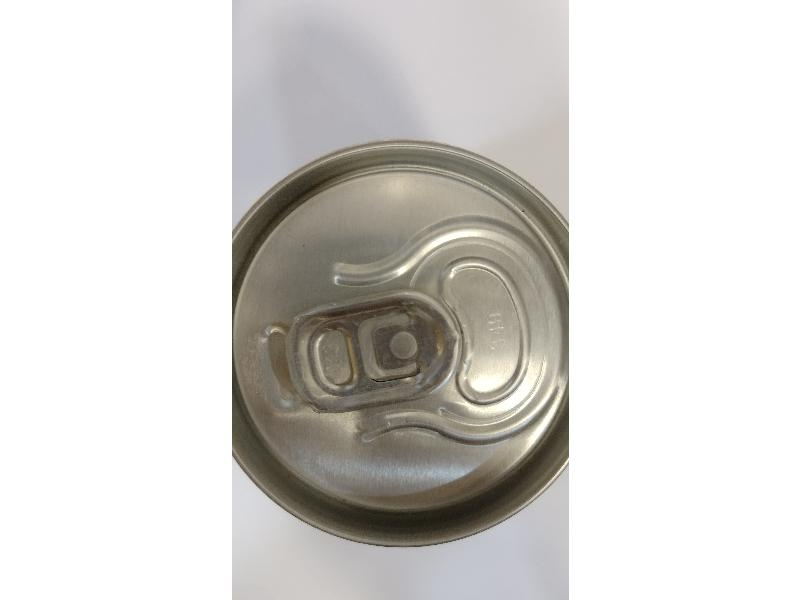can: (231, 141, 563, 547)
